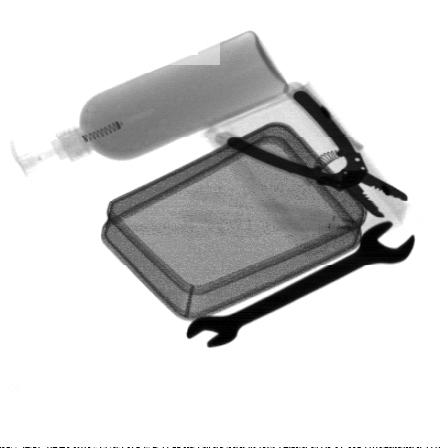Pliers: (215, 80, 410, 218)
Wrench: (186, 219, 415, 349)
